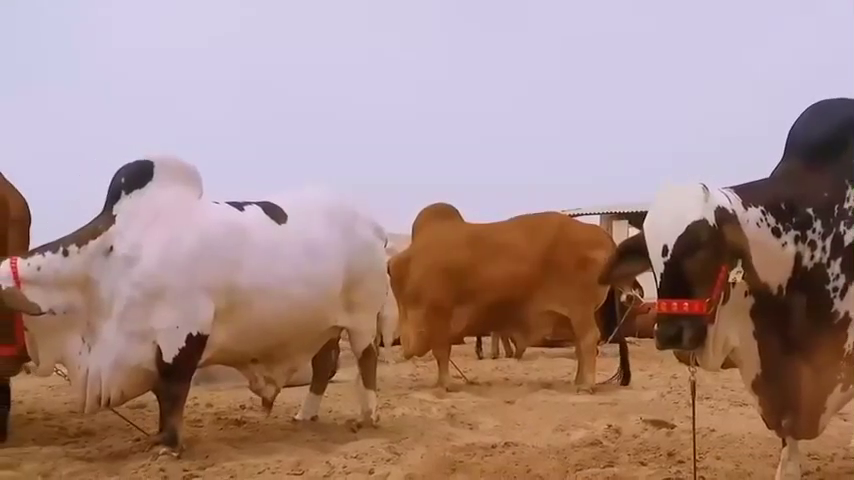bo: (1, 137, 397, 473), (593, 72, 853, 480), (376, 187, 638, 401)
